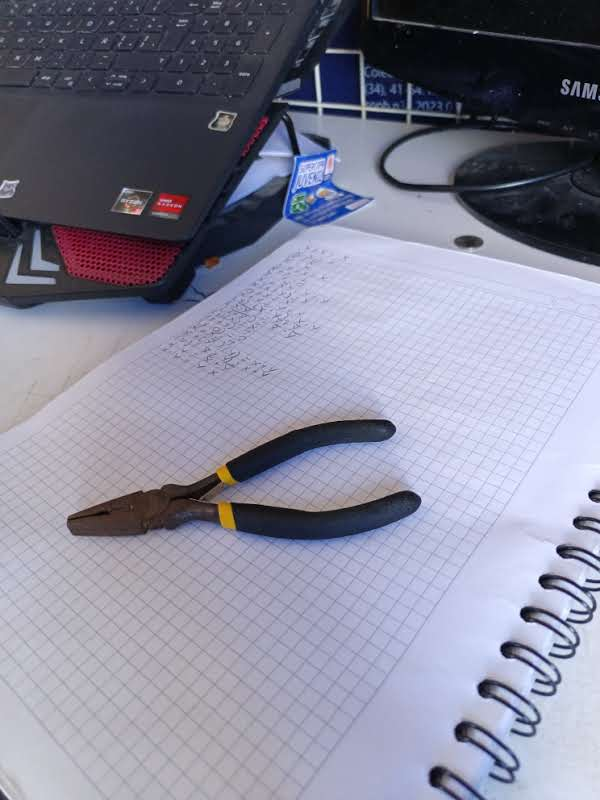Pinzas: (68, 420, 420, 539)
